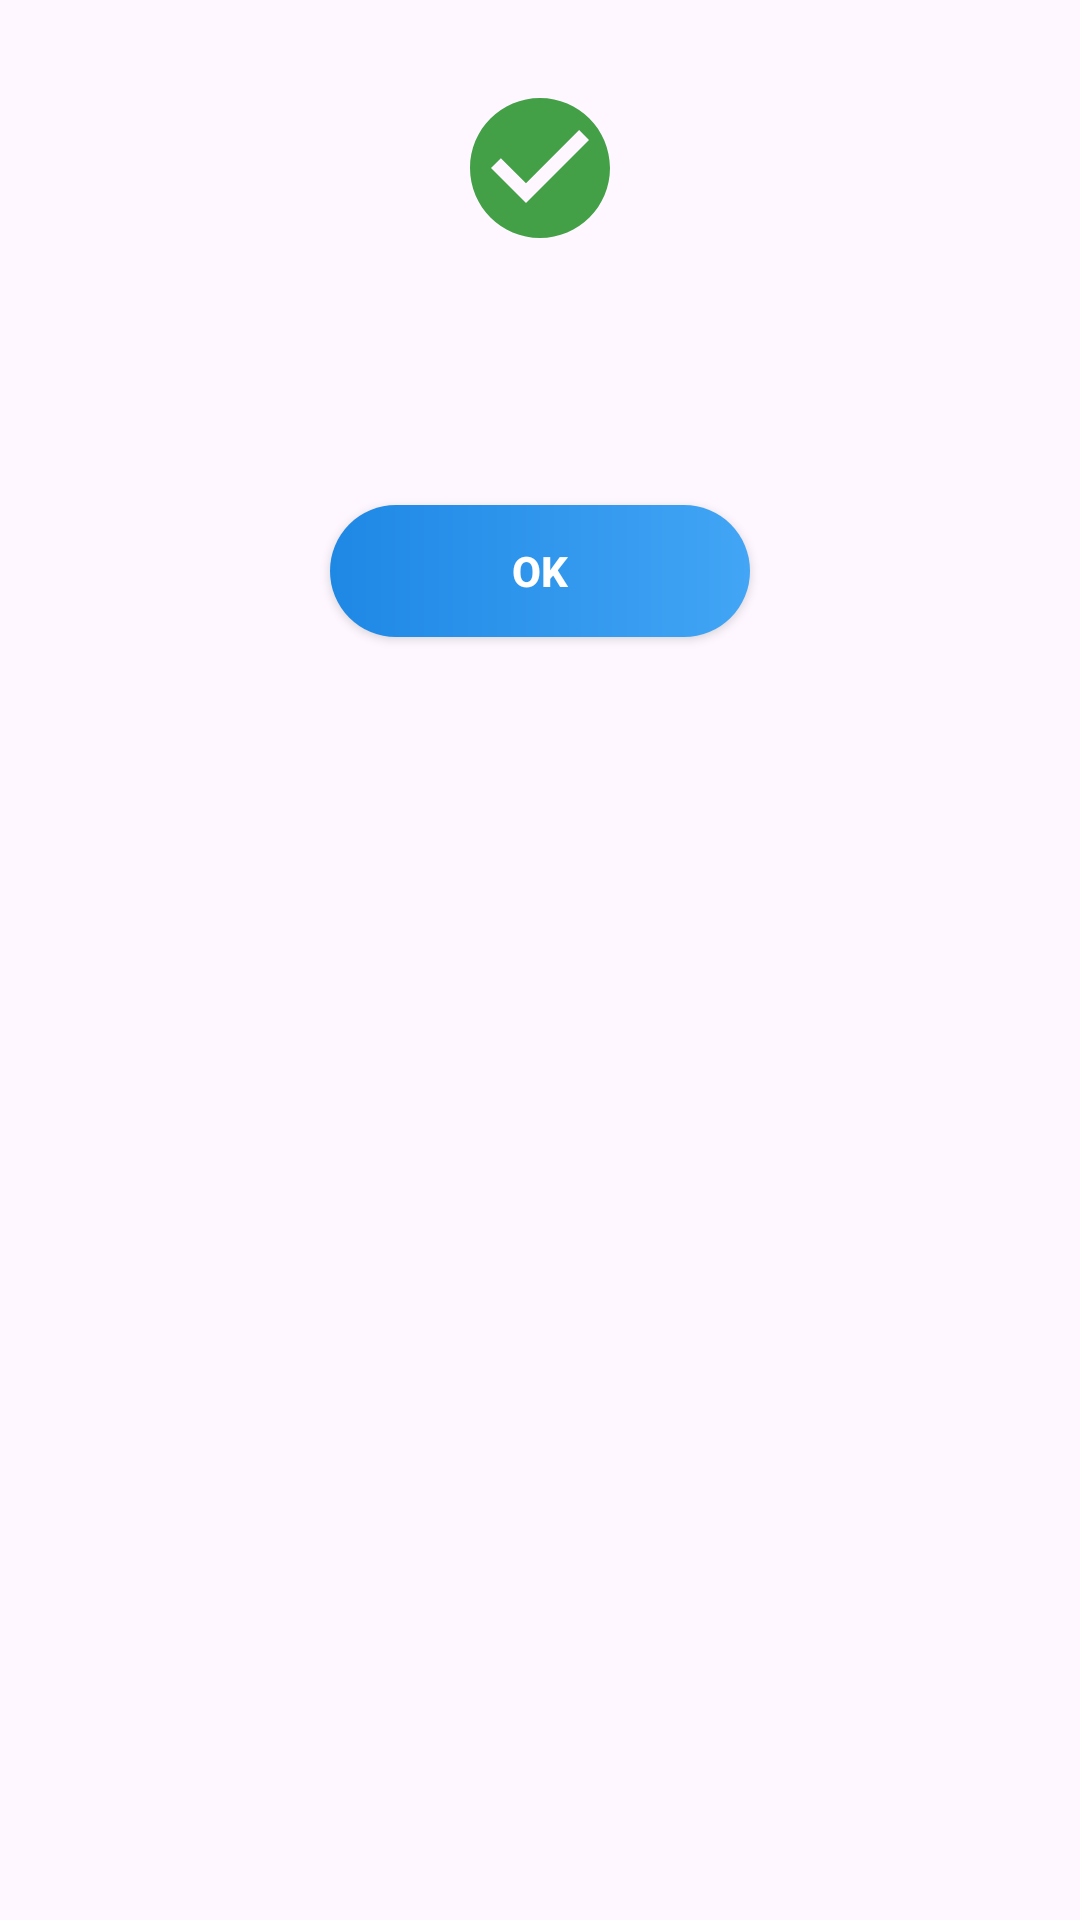

Icons on this 1080w x 1920h Android screen, each with the point to tap as (x,y):
Status: (540,168)
